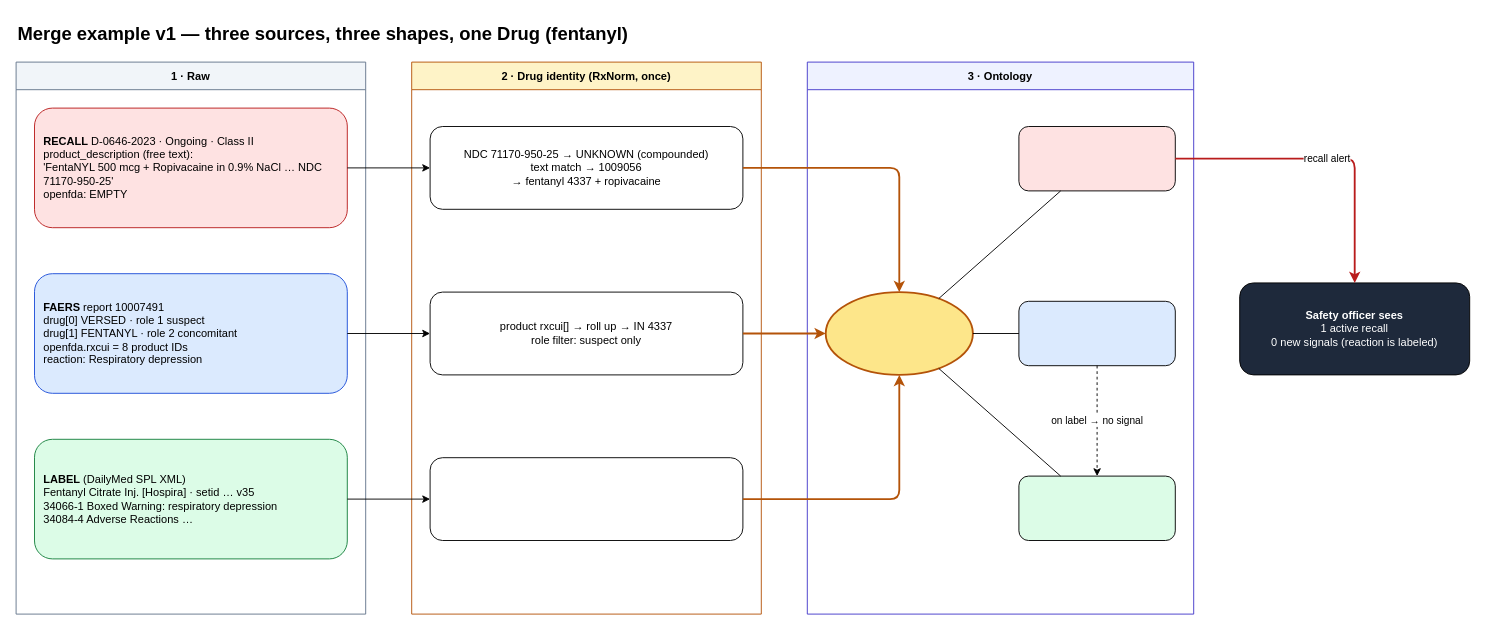
The diagram is 1486 pixels wide and 630 high, and some of its shapes have lost their labels. Each missing label, with the centre of its shape:
"AdverseEventStat respiratory depression" goes at pixel 1096 333.
"Drug fentanyl · RxCUI 4337" goes at pixel 898 333.
"Label v35 resp. depression = LABELED" goes at pixel 1096 507.
"openfda.rxcui → IN 4337" goes at pixel 586 498.
"Recall D-0646-2023 ACTIVE · compounded" goes at pixel 1096 158.
